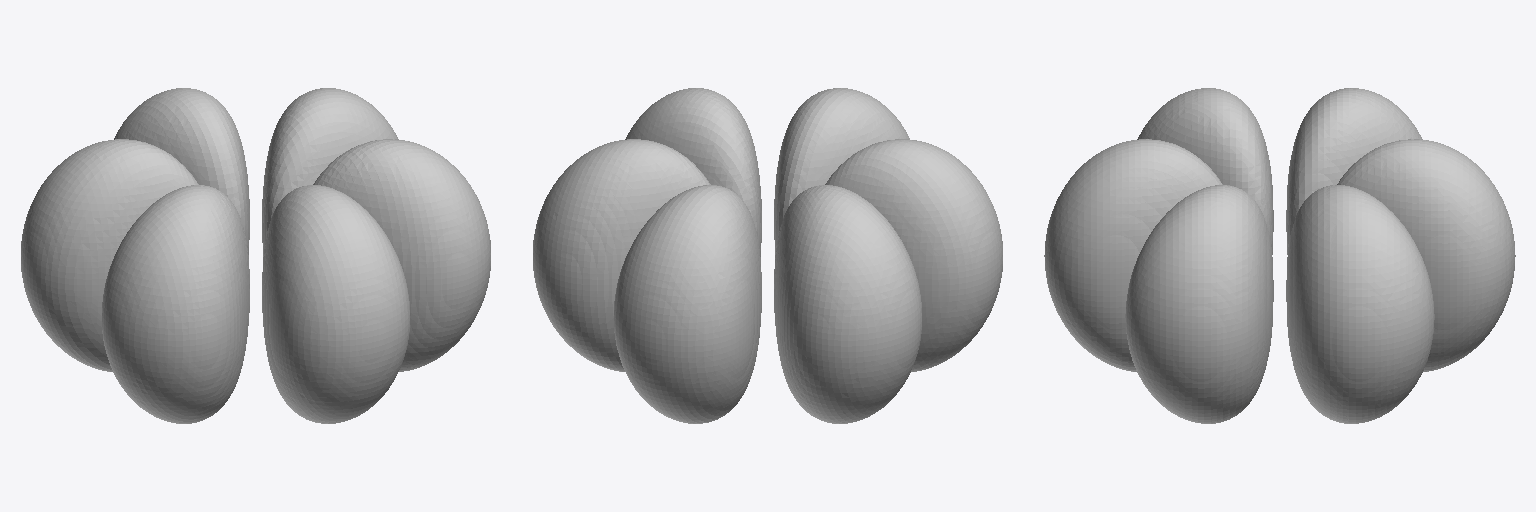
File: orb_n=4_ l=3 _m=-3.obj
3 views of the same model, side by side, from view 1: azimuth 30°, elevation 25°; view 2: azimuth 150°, elevation 25°; view 3: azimuth 270°, elevation 25° (orthographic).
Parts seen in each view (by area): view 1: orb_n=4__l=3__m=-3; view 2: orb_n=4__l=3__m=-3; view 3: orb_n=4__l=3__m=-3.
Part boxes in pixels (x1,y1,x2,y2): orb_n=4__l=3__m=-3: (21,88,490,423); orb_n=4__l=3__m=-3: (533,88,1002,423); orb_n=4__l=3__m=-3: (1044,88,1515,423).
Size of the model in its own units: 63.42 by 36.87 by 69.7.